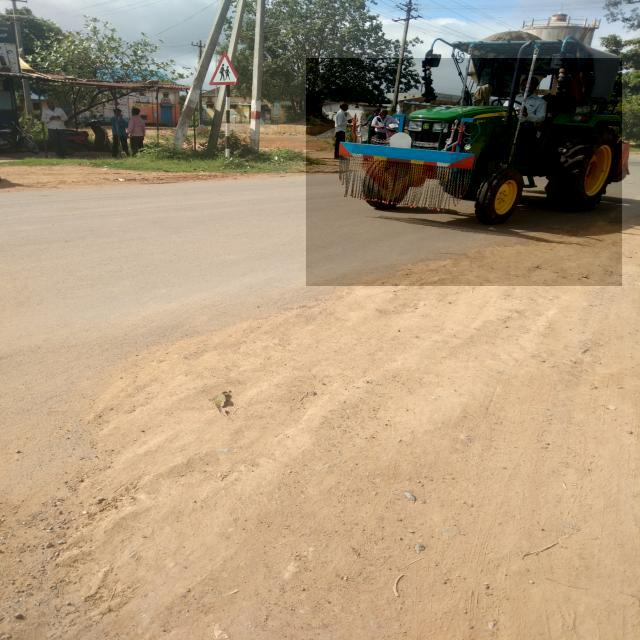Tractot: (306, 58, 622, 286)
